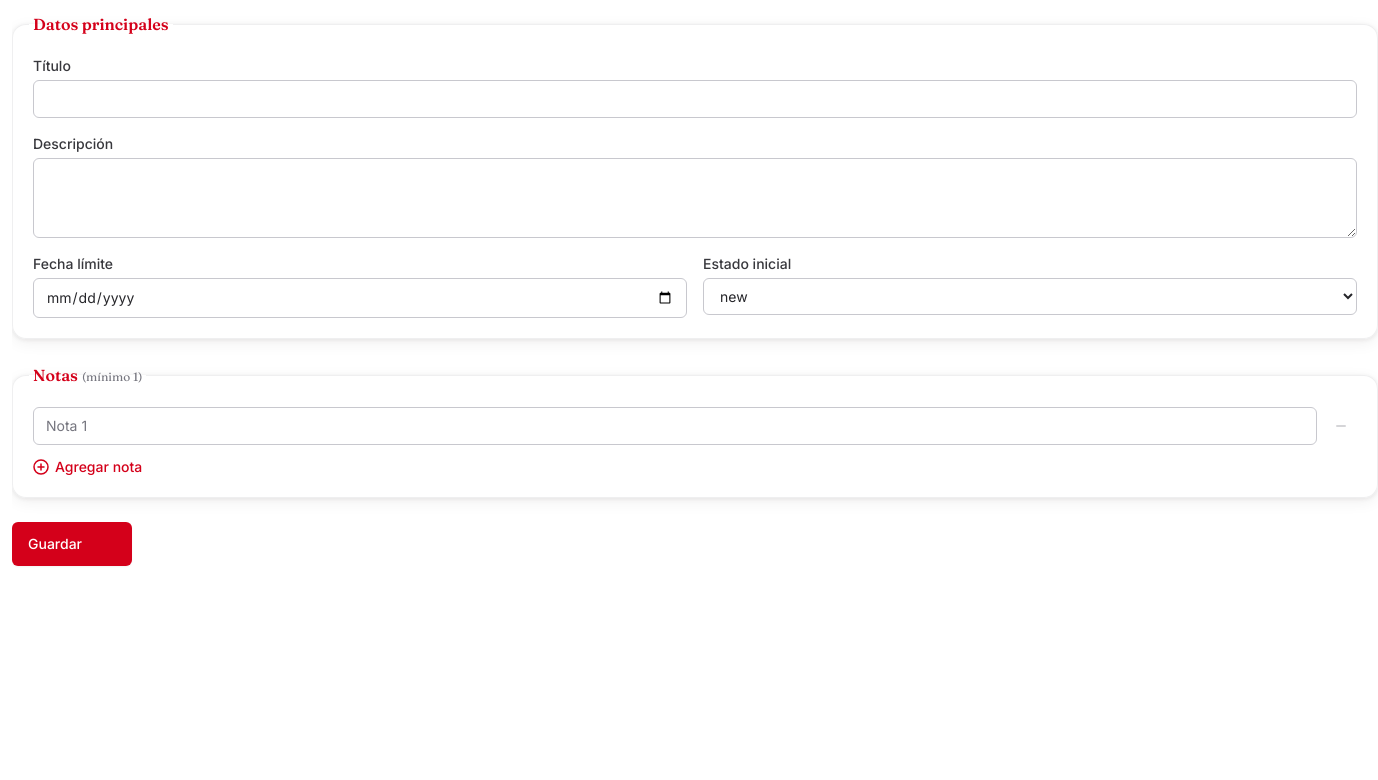
Test: TaskForm — validation › shows error when description is missing
Expected: the dropdown labelled "Estado inicial" is shown, x1=703 y1=278 x2=1357 y2=315
Type "Title" into the field labelled "Título" at {"x": 695, "y": 99}, box x1=33 y1=80 x2=1357 y2=118
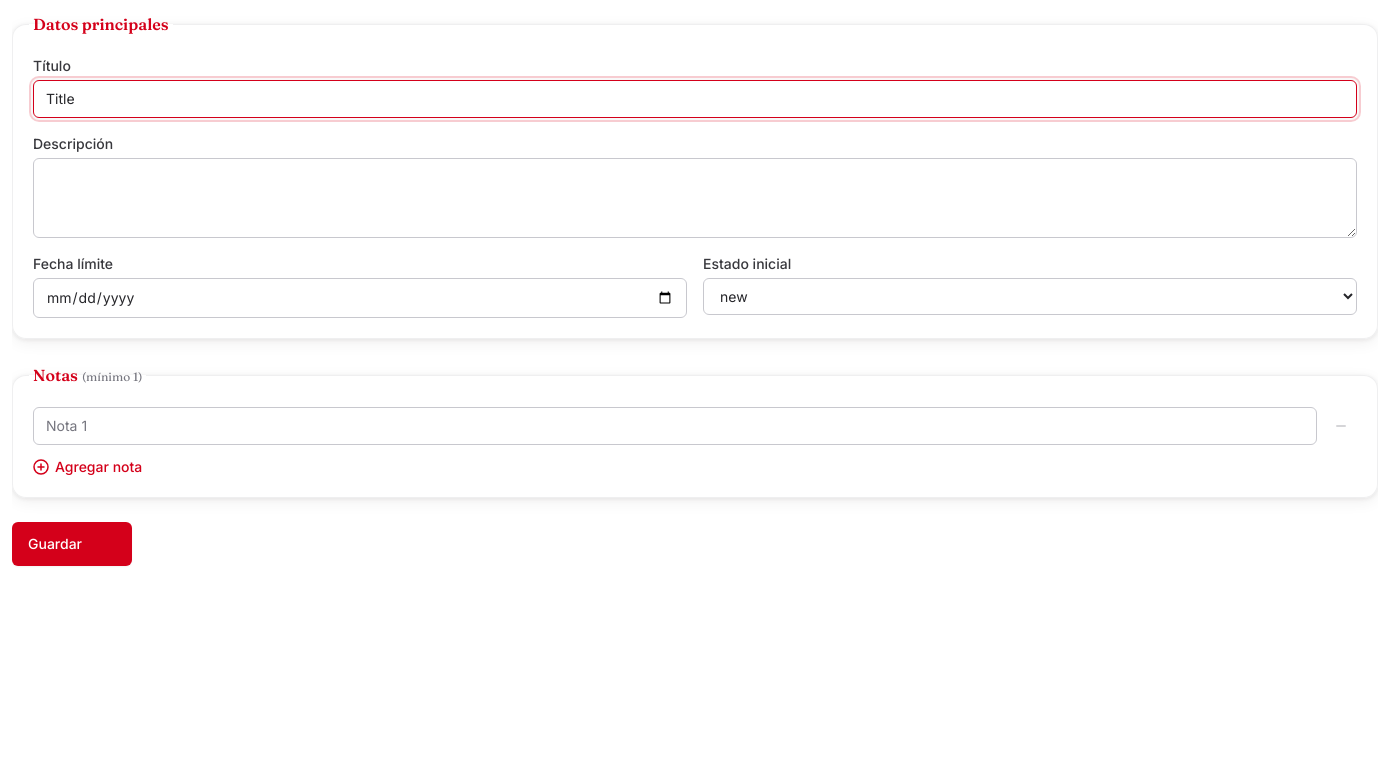
Type "2025-06-01" into the date field labelled "Fecha límite" at {"x": 360, "y": 298}, box x1=33 y1=278 x2=687 y2=318
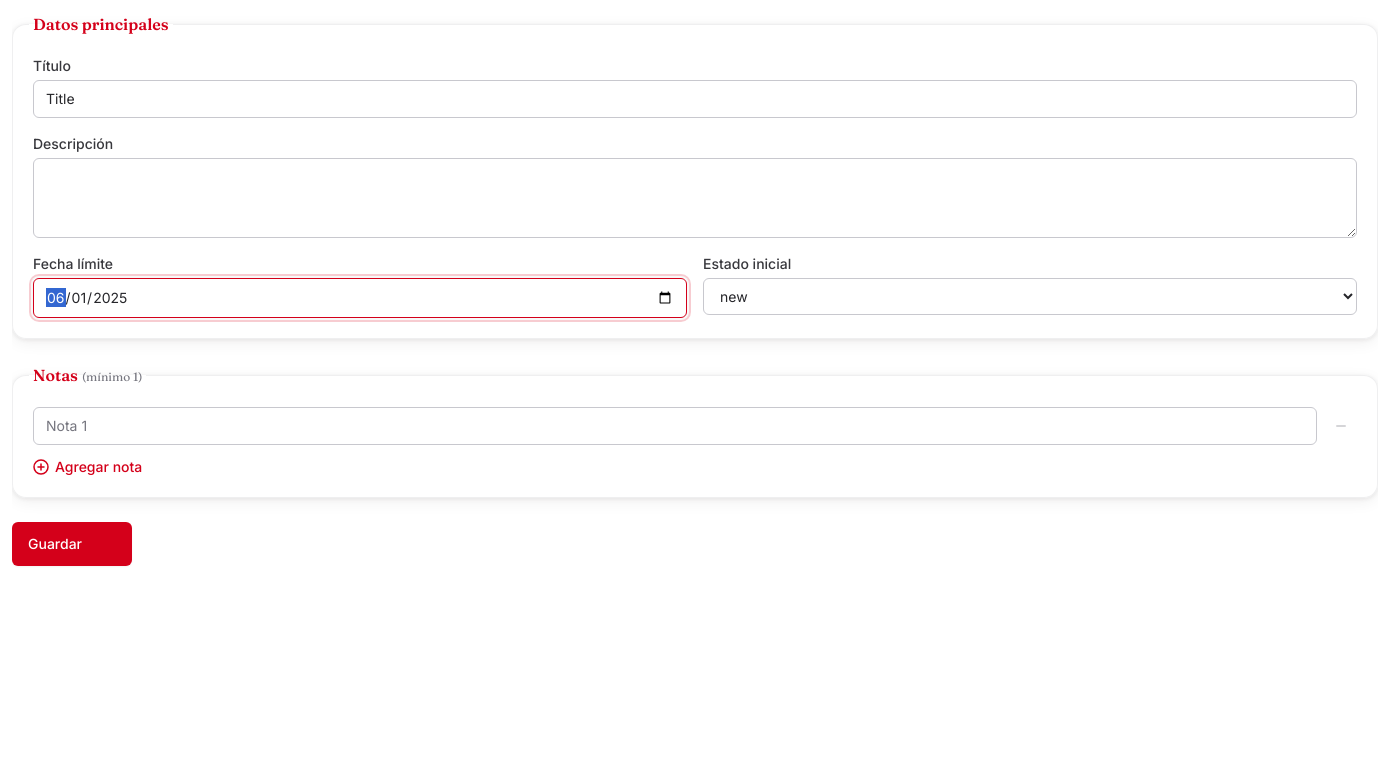
Type "note" into the field with placeholder "Nota 1" at {"x": 675, "y": 426}, box x1=33 y1=407 x2=1317 y2=445
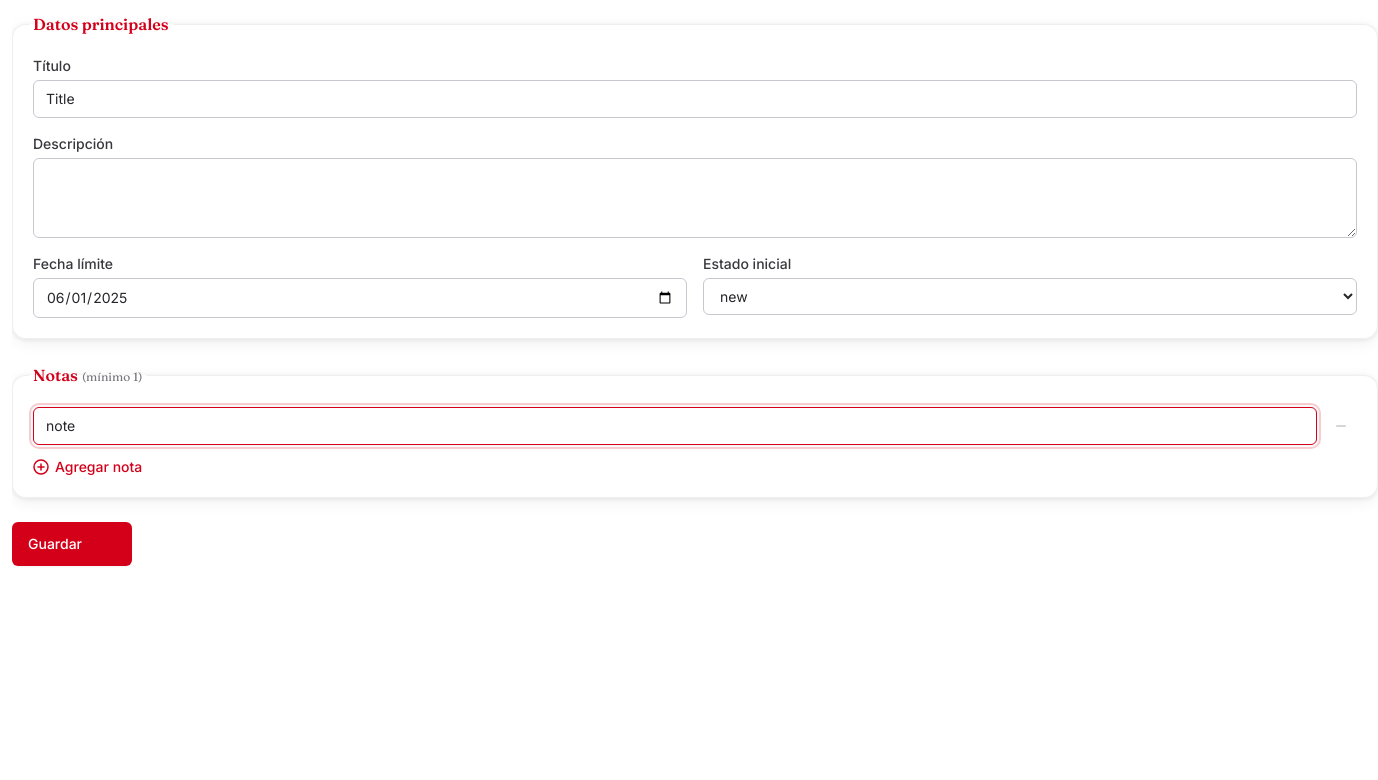
Click the button "Guardar" at {"x": 72, "y": 544}, box x1=12 y1=522 x2=132 y2=566
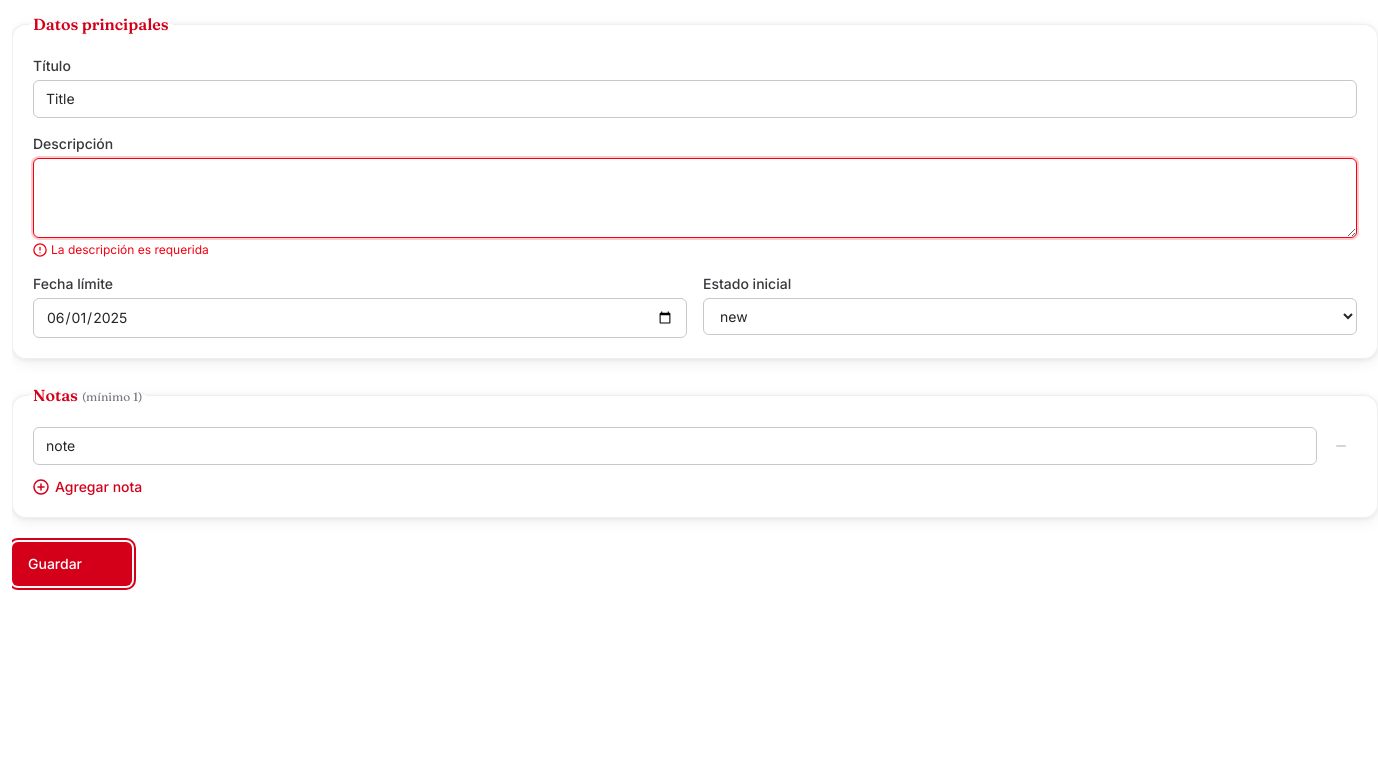
Now the text "La descripción es requerida" is shown, box x1=33 y1=242 x2=209 y2=257
